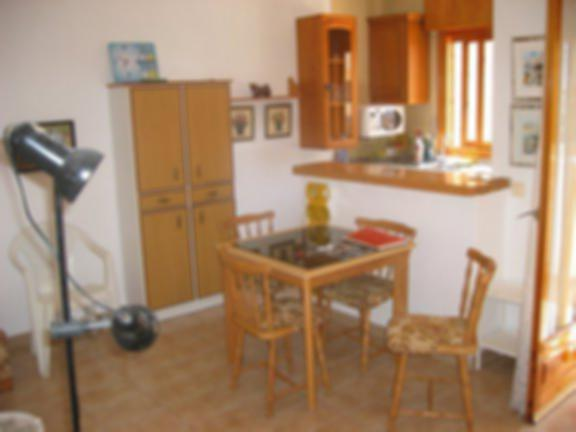Armario: (132, 83, 226, 317)
